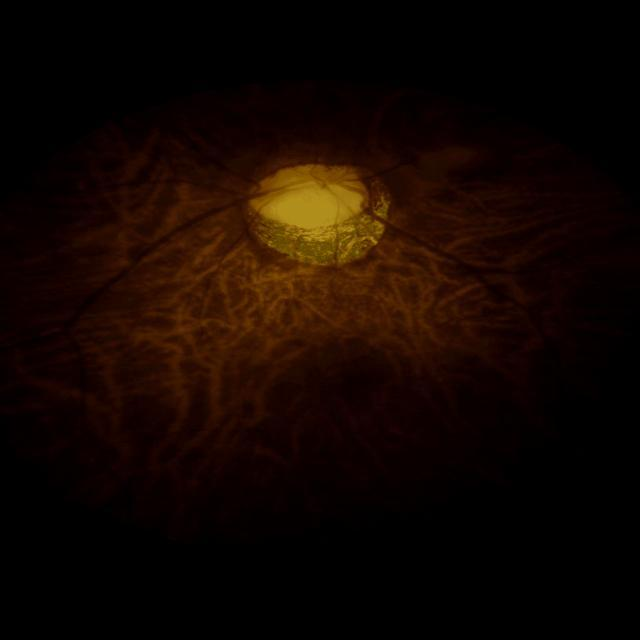cup: (259, 171, 363, 223)
disk: (248, 162, 372, 226)
